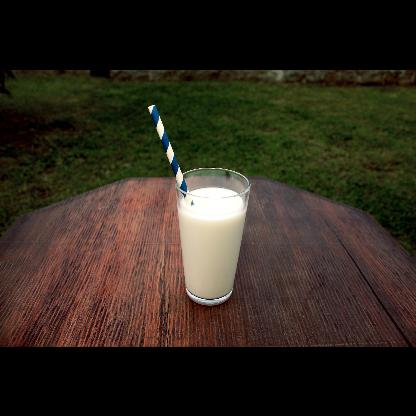milk: (176, 186, 248, 300)
